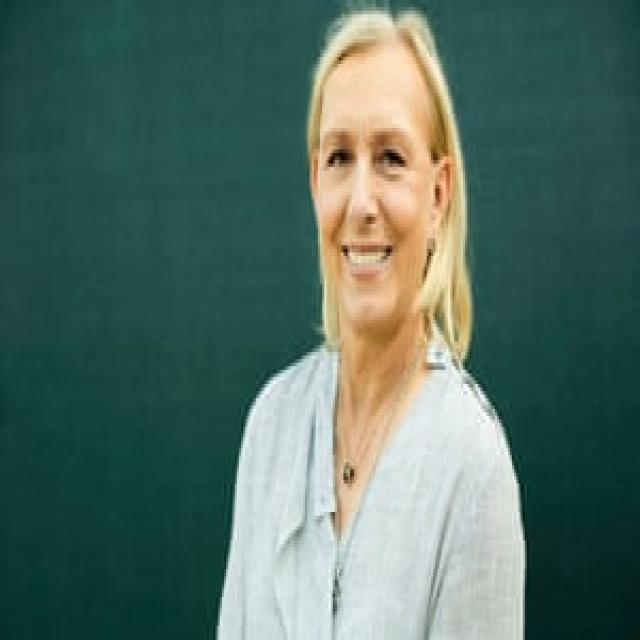mobile_phonerotation: (213, 4, 527, 636)
